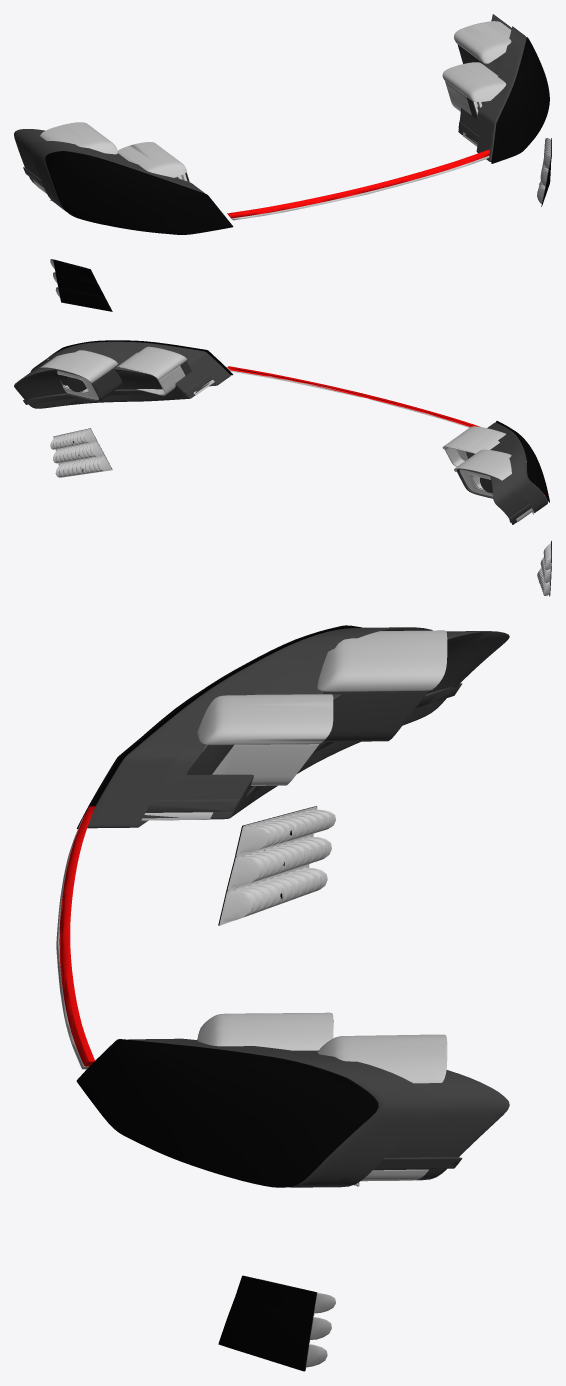
Rendered from headlights.glb.
3 views of the same model, one above another, from view 1: azimuth 30°, elevation 25°; view 2: azimuth 150°, elevation 25°; view 3: azimuth 270°, elevation 25° (orthographic). The views are drawn at different scales.
Parts seen in each view (by area): view 1: glassclear_headlamplamp1_glass_clear_0, chrome_headlampreflector1_chrome_0_0, plasticmattemidblack_headlampdetail_plastic_matte_midblack_0, paintred_headlampline_paint_red_0; view 2: plasticmattemidblack_headlampdetail_plastic_matte_midblack_0, chrome_headlampreflector1_chrome_0_0, glassclear_headlamplamp1_glass_clear_0, paintred_headlampline_paint_red_0; view 3: plasticmattemidblack_headlampdetail_plastic_matte_midblack_0, glassclear_headlamplamp1_glass_clear_0, chrome_headlampreflector1_chrome_0_0, paintred_headlampline_paint_red_0.
Boxes of the visible parts, <box> form: glassclear_headlamplamp1_glass_clear_0: <box>45,37,551,311</box>; chrome_headlampreflector1_chrome_0_0: <box>33,21,551,297</box>; plasticmattemidblack_headlampdetail_plastic_matte_midblack_0: <box>14,14,526,211</box>; paintred_headlampline_paint_red_0: <box>227,149,489,218</box>; plasticmattemidblack_headlampdetail_plastic_matte_midblack_0: <box>14,341,547,524</box>; chrome_headlampreflector1_chrome_0_0: <box>40,346,551,596</box>; glassclear_headlamplamp1_glass_clear_0: <box>46,340,551,596</box>; paintred_headlampline_paint_red_0: <box>227,366,544,494</box>; plasticmattemidblack_headlampdetail_plastic_matte_midblack_0: <box>87,627,509,1187</box>; glassclear_headlamplamp1_glass_clear_0: <box>76,625,378,1371</box>; chrome_headlampreflector1_chrome_0_0: <box>56,630,447,1370</box>; paintred_headlampline_paint_red_0: <box>59,806,95,1066</box>.
Bounding box in the file's own units: 164 × 45.18 × 64.75.
